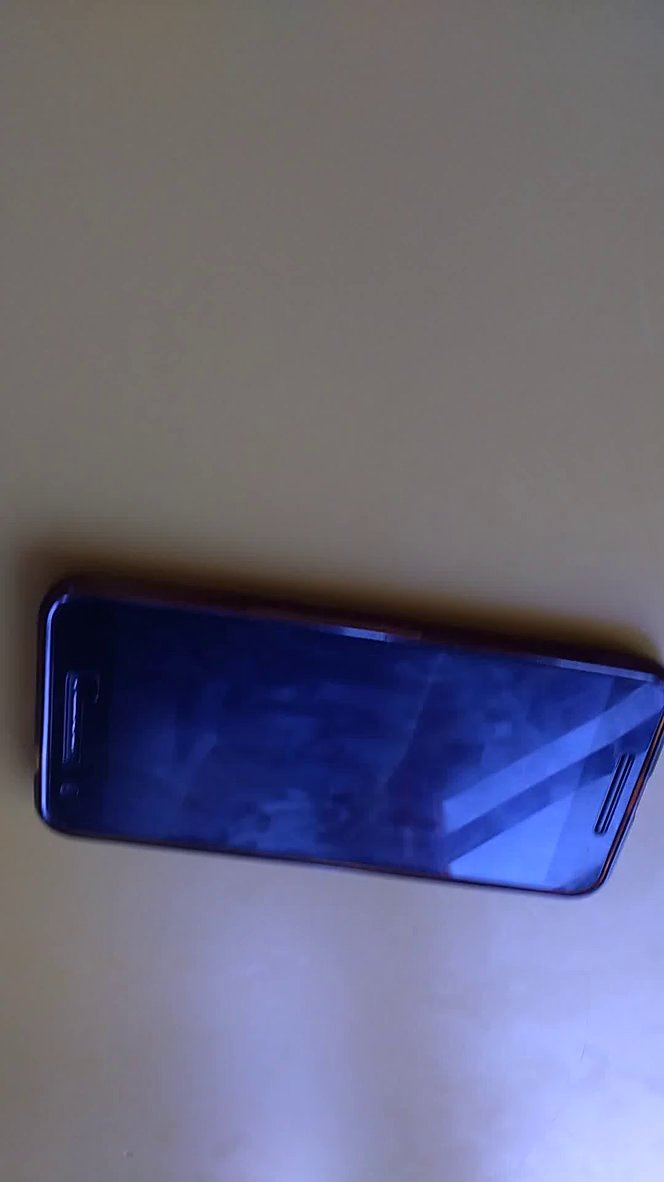phone: (24, 547, 664, 921)
